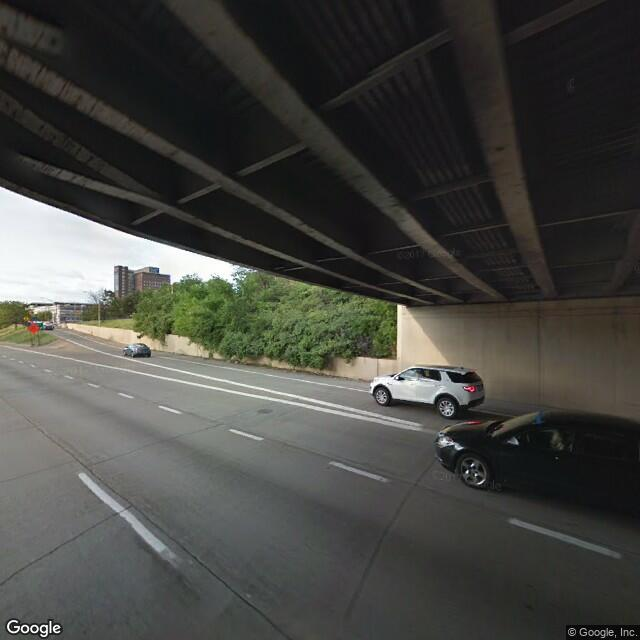litter: (233, 359, 240, 366)
